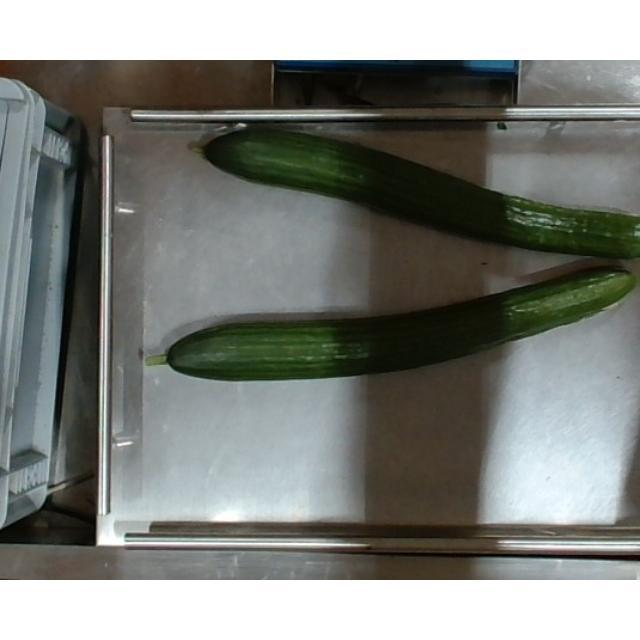cucumber: (142, 262, 640, 380), (186, 126, 640, 254)
